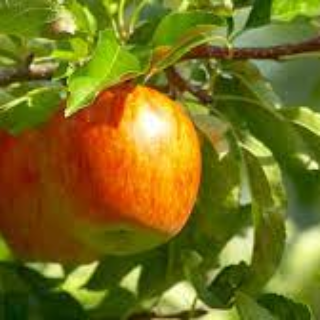tao: (44, 80, 206, 262)
